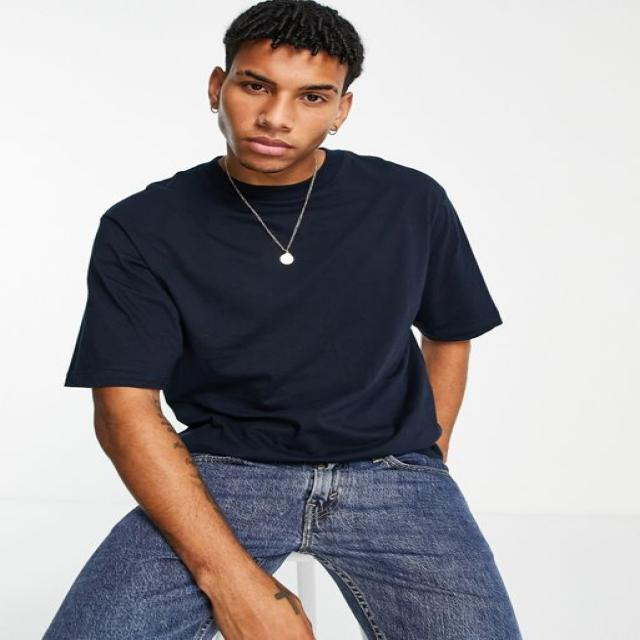tshirt: (62, 147, 503, 464)
